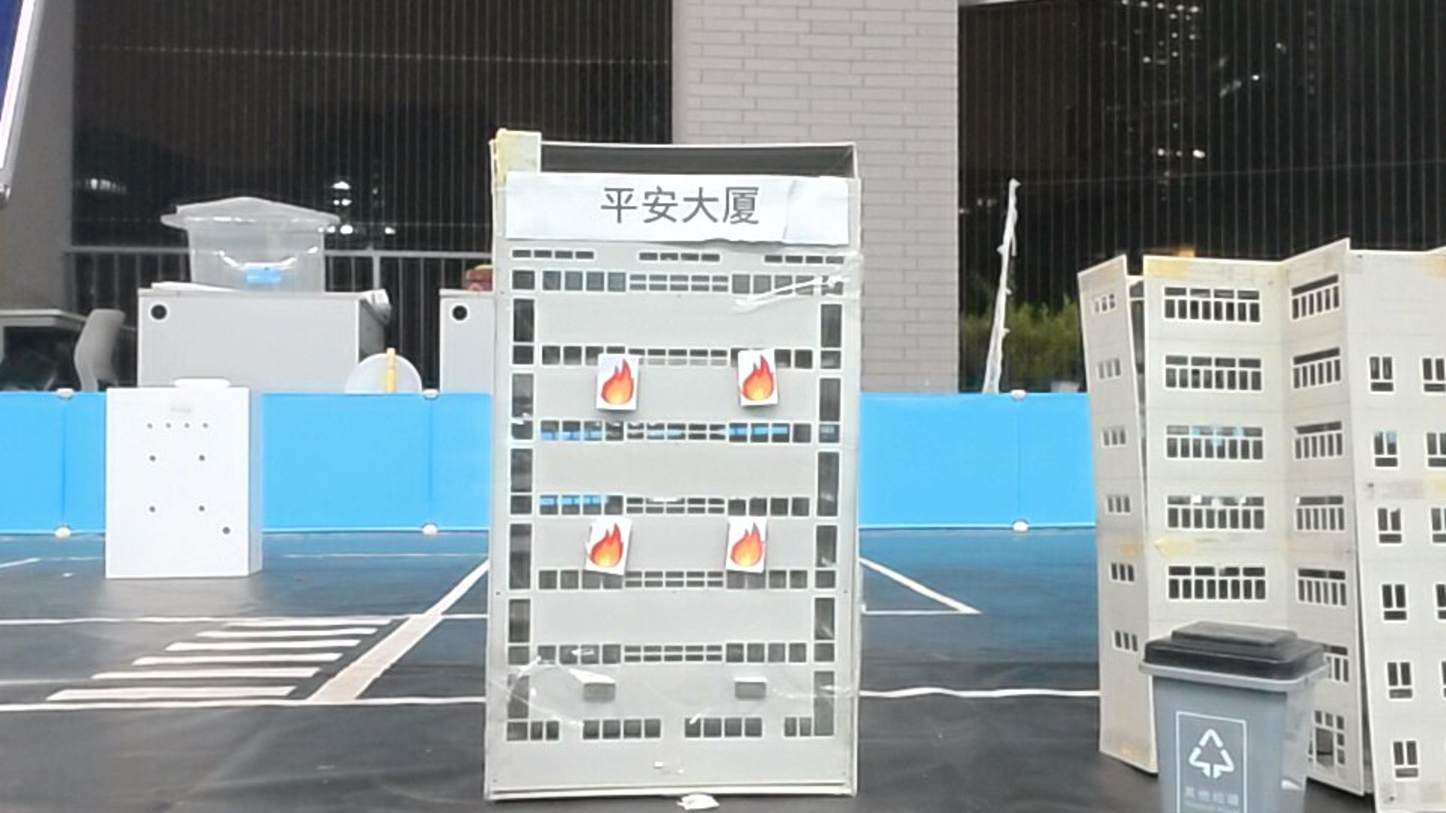fire: (588, 516, 632, 573), (598, 353, 640, 409), (737, 351, 779, 406), (727, 517, 768, 571)
